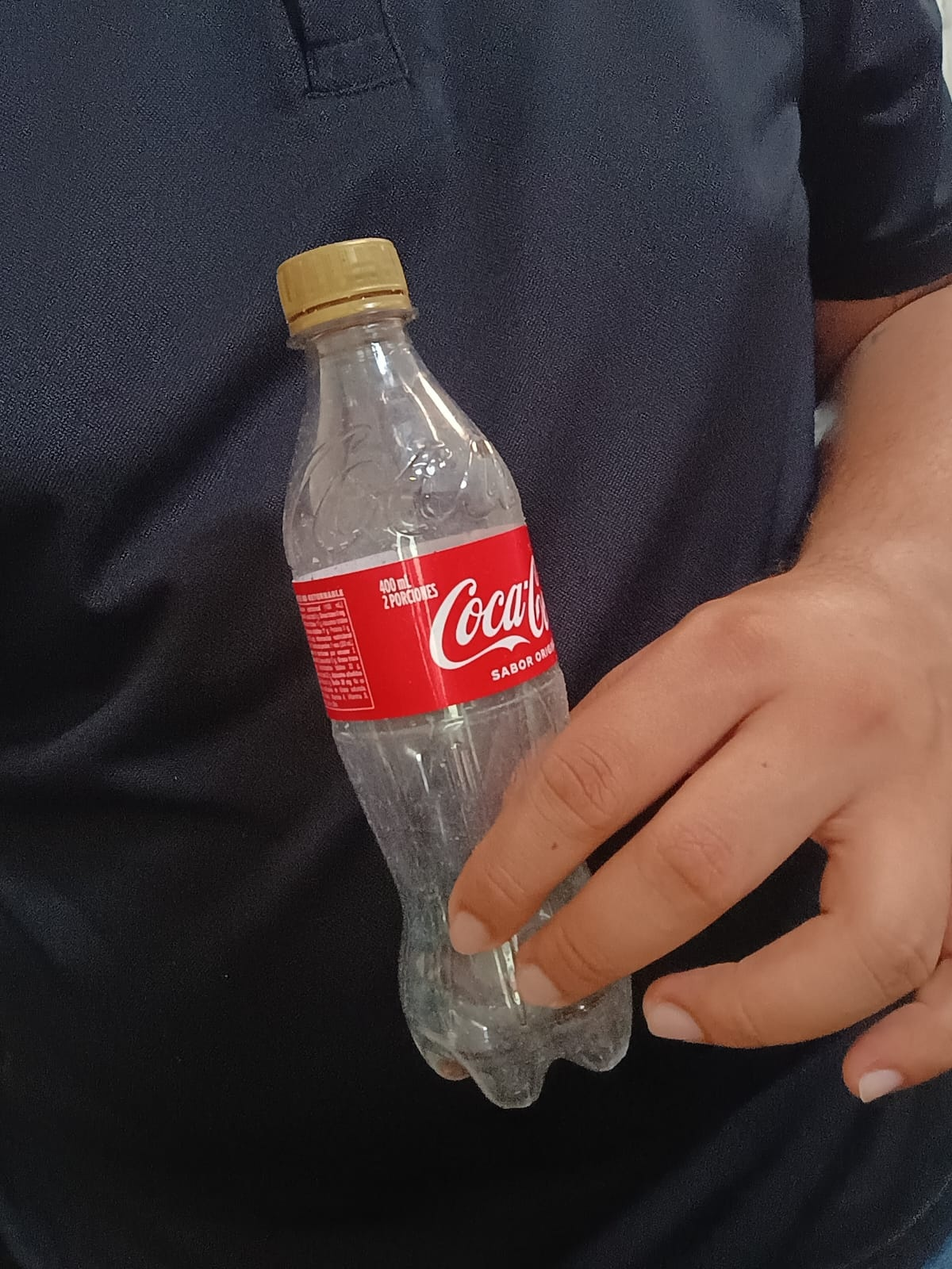Plastico: (276, 237, 634, 1106)
